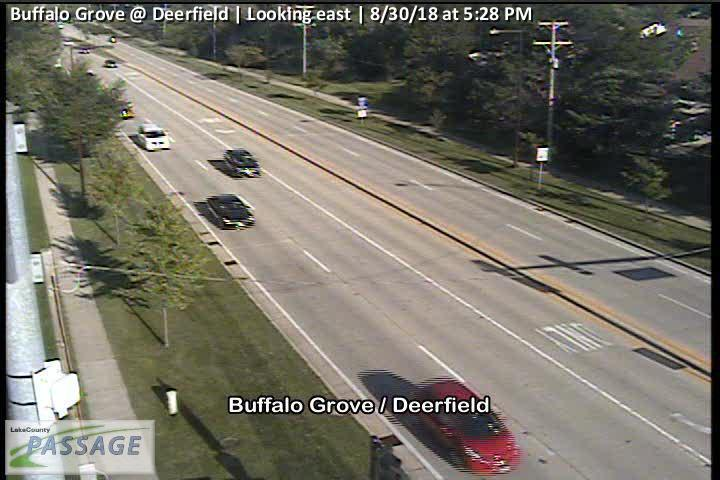Sedan: (413, 377, 518, 474), (205, 193, 256, 230), (221, 148, 262, 178)
